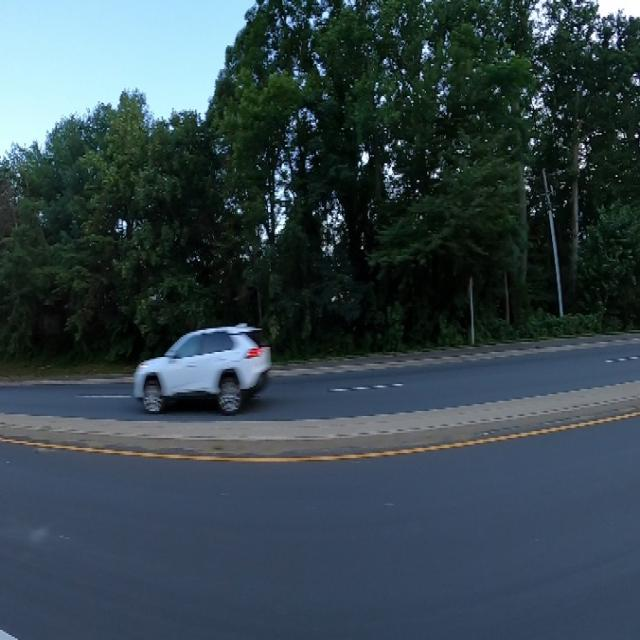car: (127, 315, 278, 424)
